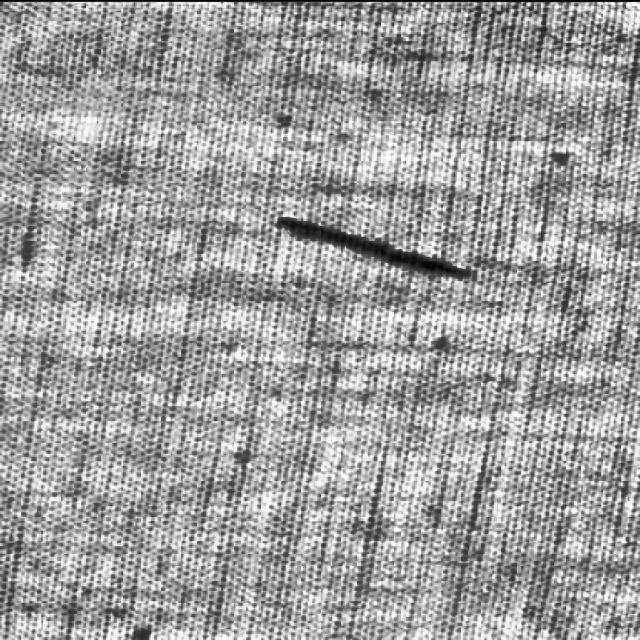oil_spot: (270, 202, 474, 288)
